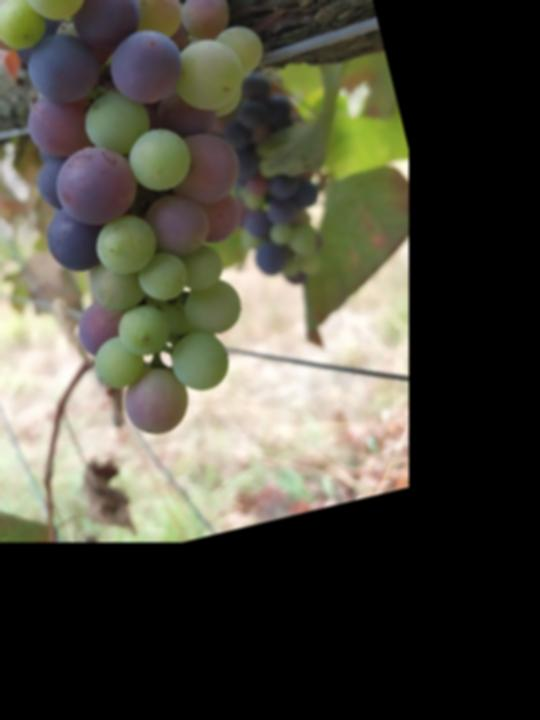grape: (0, 0, 349, 455)
